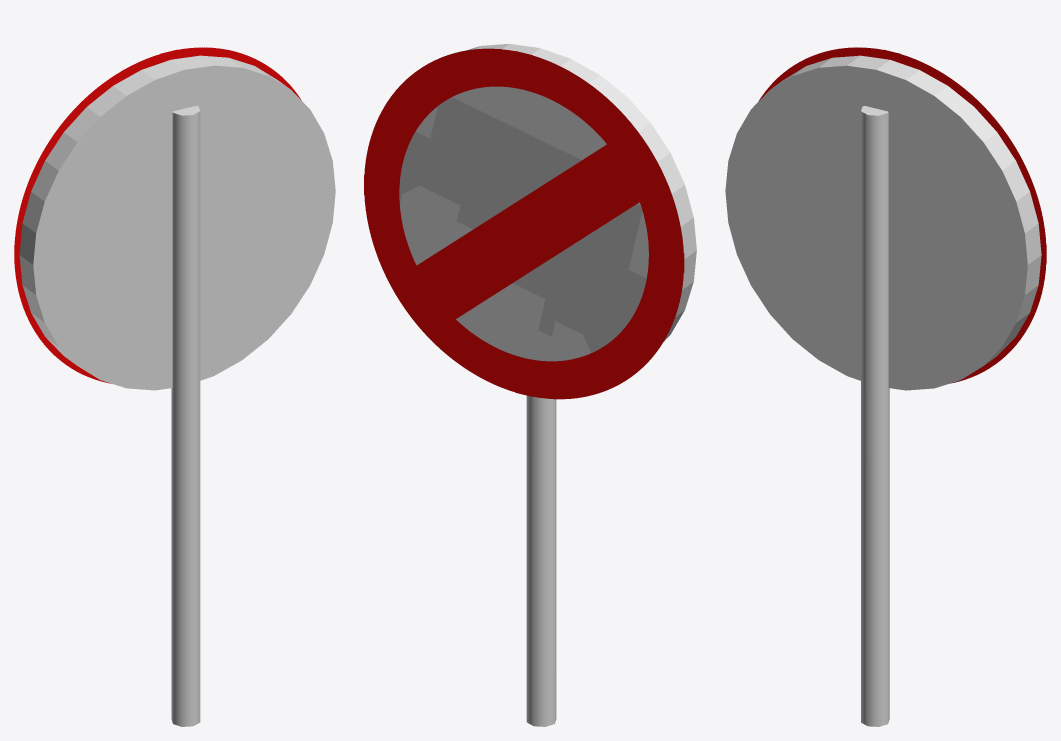
File: No Fishing Sign.fbx
3 renders of one model, left to right at view 1: azimuth 30°, elevation 25°; view 2: azimuth 150°, elevation 25°; view 3: azimuth 330°, elevation 25°, orthographic. The views are drawn at different scales.
Parts seen in each view (by area): view 1: Circle.001, Cylinder.008, Prohibit; view 2: Prohibit, Koi fish, Circle.001, Cylinder.008; view 3: Circle.001, Cylinder.008, Prohibit.
Boxes of the visible parts, left/top/right/bottom form: Circle.001: left=19, top=55, right=335, bottom=390; Cylinder.008: left=171, top=105, right=200, bottom=726; Prohibit: left=14, top=47, right=301, bottom=383; Prohibit: left=364, top=48, right=684, bottom=399; Koi fish: left=399, top=97, right=646, bottom=352; Circle.001: left=400, top=43, right=696, bottom=361; Cylinder.008: left=526, top=395, right=556, bottom=726; Circle.001: left=725, top=55, right=1041, bottom=390; Cylinder.008: left=861, top=106, right=889, bottom=726; Prohibit: left=758, top=47, right=1046, bottom=383.
Bounding box in the file's own units: 134 × 272 × 18.32.
